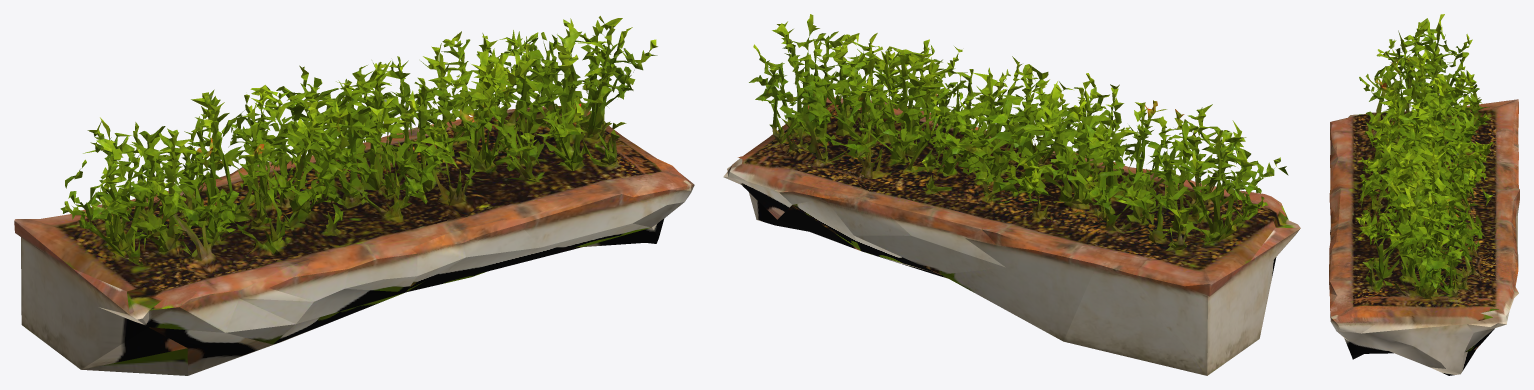
File: w5planter.glb
3 renders of one model, left to right at view 1: azimuth 30°, elevation 25°; view 2: azimuth 150°, elevation 25°; view 3: azimuth 270°, elevation 25°, orthographic. The views are drawn at different scales.
Visible parts, largest first — view 1: output_unwrapped; view 2: output_unwrapped; view 3: output_unwrapped.
Boxes of the visible parts, box(x1,y1,x2,y2) form: output_unwrapped: box(14, 16, 694, 375); output_unwrapped: box(723, 14, 1300, 375); output_unwrapped: box(1329, 14, 1519, 375).
Bounding box in the file's own units: 2 × 0.8236 × 0.745.
1 material, 1 textured.
